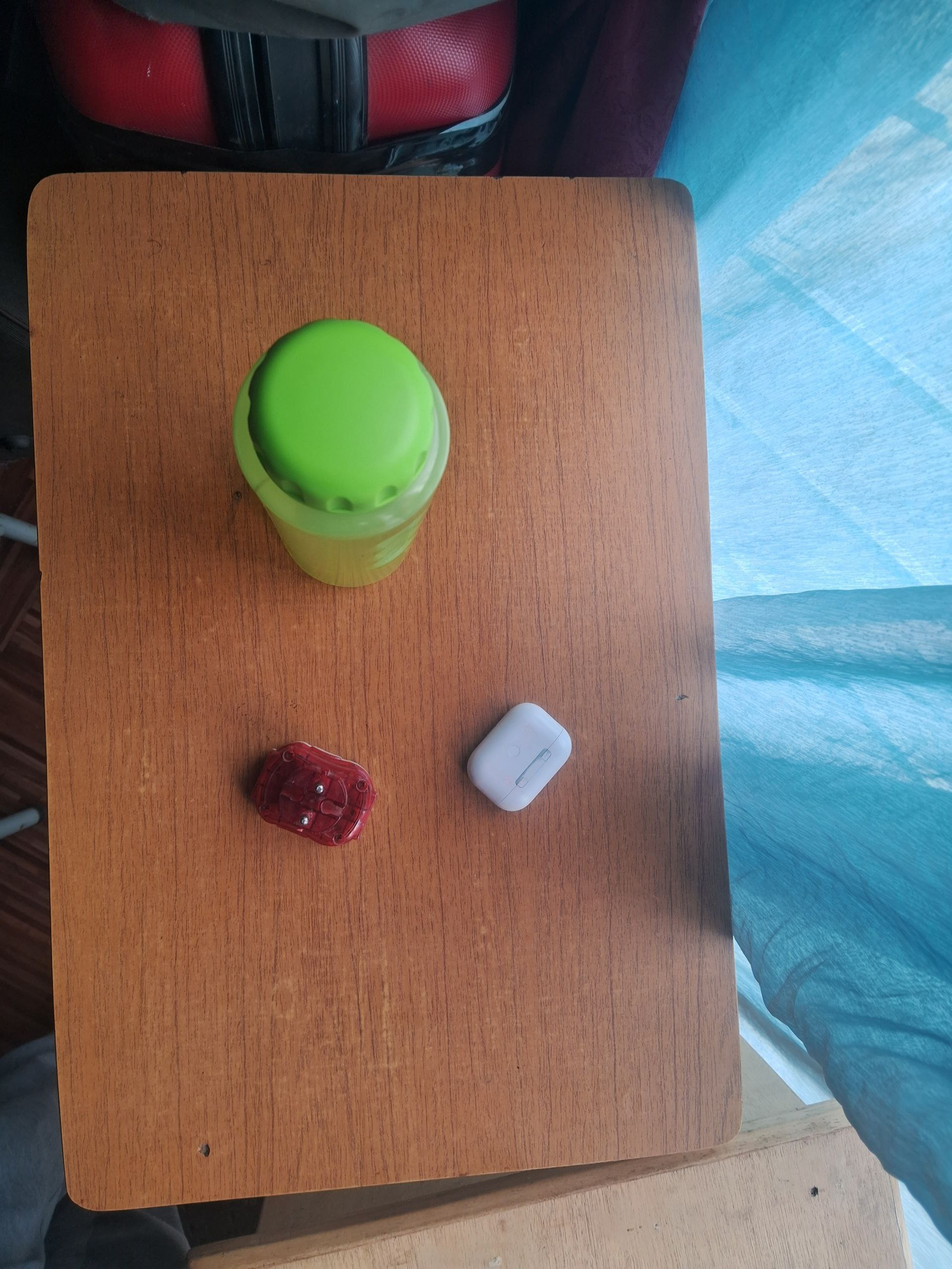Air_pod: (460, 690, 577, 817)
Multi_adapter: (244, 739, 379, 848)
Water_bottle: (227, 311, 459, 593)
